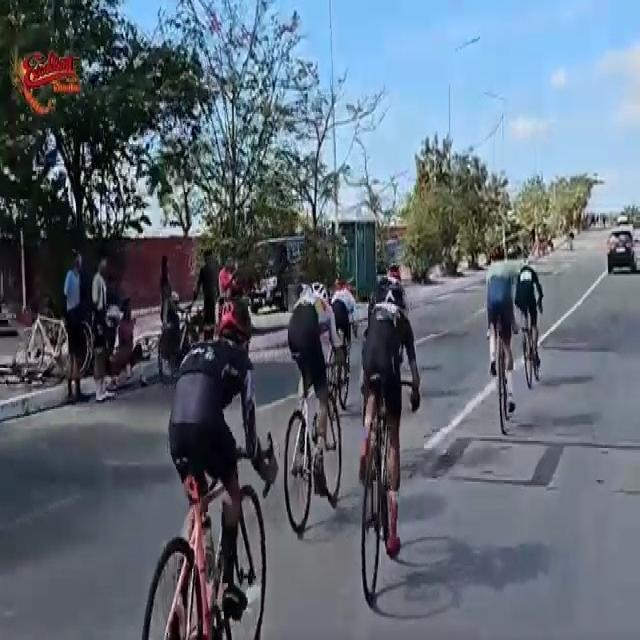bike: (139, 302, 278, 640), (354, 276, 418, 606), (282, 280, 345, 550), (484, 240, 518, 438), (326, 276, 358, 416), (516, 249, 546, 390)
car: (246, 228, 305, 314), (607, 226, 635, 277)
